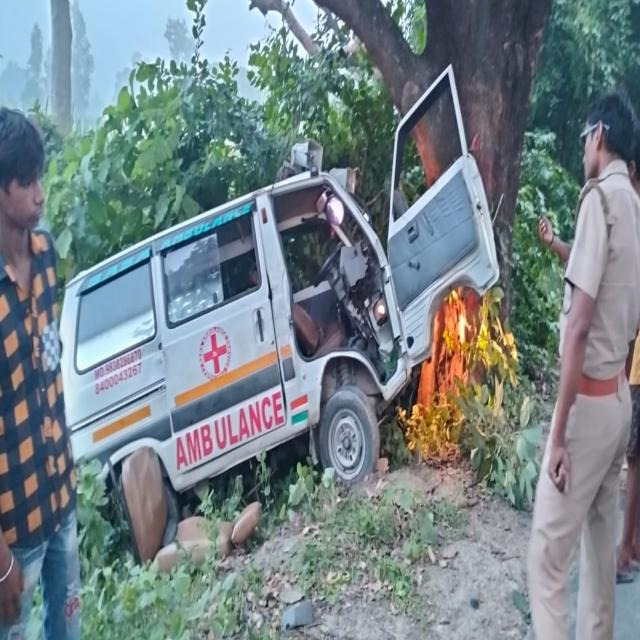accident: (60, 67, 499, 492)
